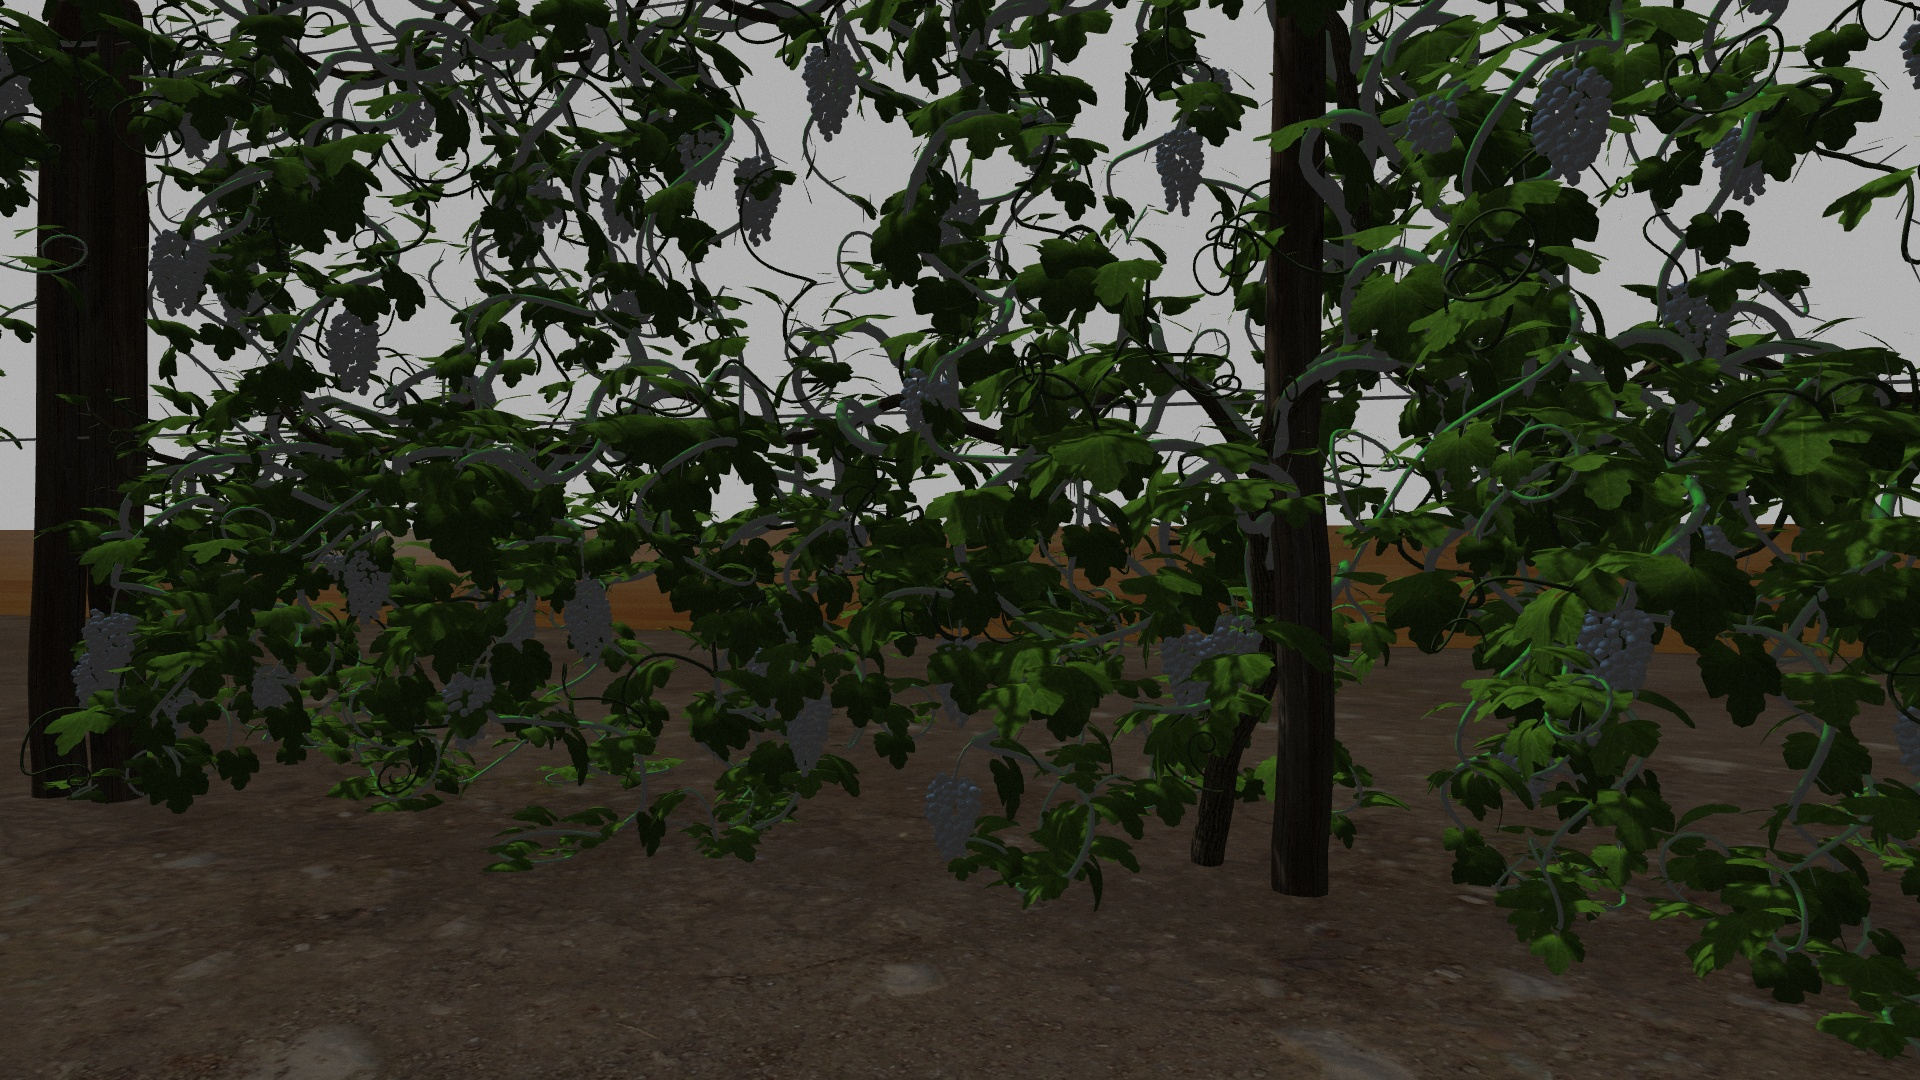grape: (1530, 61, 1611, 187), (1577, 605, 1658, 702), (1665, 277, 1739, 360), (146, 228, 211, 316), (800, 44, 858, 141), (923, 774, 985, 861), (783, 684, 839, 777), (732, 157, 787, 248), (560, 578, 616, 662), (327, 309, 380, 396), (1156, 127, 1207, 218), (1713, 125, 1768, 204), (82, 607, 138, 683), (1160, 636, 1216, 712), (898, 367, 953, 438), (342, 554, 392, 626), (1407, 95, 1458, 160), (676, 127, 727, 187), (69, 659, 117, 711), (1211, 615, 1263, 662), (443, 673, 495, 717), (251, 669, 297, 712)
